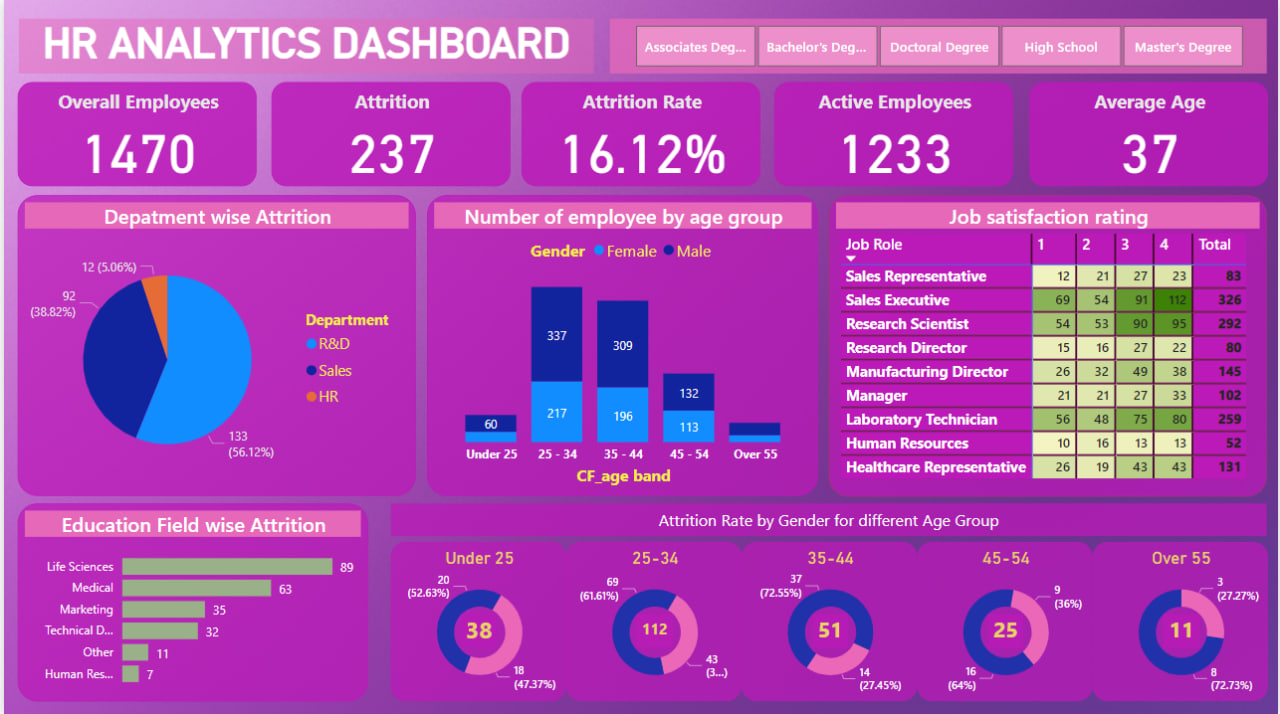

The page's visual inventory and layout, read from the dashboard file:
{"tool":"powerbi","page":{"name":"Page 1","canvas":[1280,720],"ordinal":0},"visuals":[{"type":"card","title":"Overall Employees","fields":{"Values":["Sum(HR data.Employee Count)"]},"box":[13.7,82.4,240.3,105],"z":0},{"type":"card","title":"Attrition","fields":{"Values":["Sum(HR data.Attrition Count)"]},"box":[269.2,82.4,240.3,105],"z":1000},{"type":"card","title":"Attrition Rate","fields":{"Values":["HR data.Attrition Rate"]},"box":[520.5,82.4,240.3,105],"z":2000},{"type":"card","title":"Active Employees","fields":{"Values":["HR data.Active Employees"]},"box":[773.2,82.4,240.3,105],"z":3000},{"type":"card","title":"Average Age","fields":{"Values":["Avg(HR data.Age)"]},"box":[1030,82.4,240.3,105],"z":4000},{"type":"pieChart","title":"Depatment wise Attrition","fields":{"Category":["HR data.Department"],"Y":["Sum(HR data.Attrition Count)"]},"box":[13.8,196.2,400,302.5],"z":5000},{"type":"columnChart","title":"Number of employee by age group","fields":{"Category":["HR data.CF_age band"],"Y":["Sum(HR data.Employee Count)"],"Series":["HR data.Gender"]},"box":[425,196,393,302],"z":6000},{"type":"pivotTable","title":"Job satisfaction rating","fields":{"Rows":["HR data.Job Role"],"Columns":["HR data.Job Satisfaction"],"Values":["Sum(HR data.Employee Count)"]},"box":[829,196,440,303],"z":7000},{"type":"barChart","title":"Education Field wise Attrition","fields":{"Category":["HR data.Education Field"],"Y":["Sum(HR data.Attrition Count)"]},"box":[14,506,352,199],"z":8000},{"type":"donutChart","title":"Under 25","fields":{"Category":["HR data.Gender"],"Y":["Sum(HR data.Attrition Count)"],"Series":["HR data.CF_age band"]},"box":[388.8,545,176.2,160],"z":9000},{"type":"textbox","box":[389,506,880,33],"z":10000},{"type":"donutChart","title":"25-34","fields":{"Category":["HR data.Gender"],"Y":["Sum(HR data.Attrition Count)"],"Series":["HR data.CF_age band"]},"box":[564.7,545.5,176.4,160],"z":11000},{"type":"donutChart","title":"35-44","fields":{"Category":["HR data.Gender"],"Y":["Sum(HR data.Attrition Count)"],"Series":["HR data.CF_age band"]},"box":[741,545.5,176.4,160],"z":12000},{"type":"donutChart","title":"45-54","fields":{"Category":["HR data.Gender"],"Y":["Sum(HR data.Attrition Count)"],"Series":["HR data.CF_age band"]},"box":[917.4,545.5,176.4,160],"z":13000},{"type":"pieChart","title":"Under 25","fields":{"Category":["HR data.Gender"],"Y":["Sum(HR data.Attrition Count)"],"Series":["HR data.CF_age band"]},"box":[1201.8,756.4,176.4,154.5],"z":14000},{"type":"donutChart","title":"Over 55","fields":{"Category":["HR data.Gender"],"Y":["Sum(HR data.Attrition Count)"],"Series":["HR data.CF_age band"]},"box":[1093.7,545.5,176.4,160],"z":15000},{"type":"card","fields":{"Values":["Sum(HR data.Attrition Count)"]},"box":[459.2,617.7,36.9,33.8],"z":15001},{"type":"card","fields":{"Values":["Sum(HR data.Attrition Count)"]},"box":[635,617.5,37.5,33.8],"z":15002},{"type":"card","fields":{"Values":["Sum(HR data.Attrition Count)"]},"box":[813.1,617.7,35.4,34.6],"z":15003},{"type":"card","fields":{"Values":["Sum(HR data.Attrition Count)"]},"box":[989.2,617.7,35.4,34.6],"z":15004},{"type":"card","fields":{"Values":["Sum(HR data.Attrition Count)"]},"box":[1165.4,617.7,36.2,34.6],"z":15005},{"type":"textbox","title":"HR ANALYTICS DASHBOARD","box":[14.4,18.9,577.8,55.6],"z":15006},{"type":"slicer","fields":{"Values":["HR data.Education"]},"box":[608.8,18.8,660,55],"z":15007}]}

Visuals, with their boxes in screenshot pixels (x1, y1, x2, y2), scaled from the page's 1280x720 canvas onto the 1280x714 screenshot:
"Overall Employees" card: crop(14, 82, 254, 186)
"Attrition" card: crop(269, 82, 510, 186)
"Attrition Rate" card: crop(520, 82, 761, 186)
"Active Employees" card: crop(773, 82, 1014, 186)
"Average Age" card: crop(1030, 82, 1270, 186)
"Depatment wise Attrition" pieChart: crop(14, 195, 414, 495)
"Number of employee by age group" columnChart: crop(425, 194, 818, 494)
"Job satisfaction rating" pivotTable: crop(829, 194, 1269, 495)
"Education Field wise Attrition" barChart: crop(14, 502, 366, 699)
"Under 25" donutChart: crop(389, 540, 565, 699)
textbox: crop(389, 502, 1269, 535)
"25-34" donutChart: crop(565, 541, 741, 700)
"35-44" donutChart: crop(741, 541, 917, 700)
"45-54" donutChart: crop(917, 541, 1094, 700)
"Over 55" donutChart: crop(1094, 541, 1270, 700)
card - Sum(HR data.Attrition Count): crop(459, 613, 496, 646)
card - Sum(HR data.Attrition Count): crop(635, 612, 672, 646)
card - Sum(HR data.Attrition Count): crop(813, 613, 848, 647)
card - Sum(HR data.Attrition Count): crop(989, 613, 1025, 647)
card - Sum(HR data.Attrition Count): crop(1165, 613, 1202, 647)
"HR ANALYTICS DASHBOARD" textbox: crop(14, 19, 592, 74)
slicer - HR data.Education: crop(609, 19, 1269, 73)
